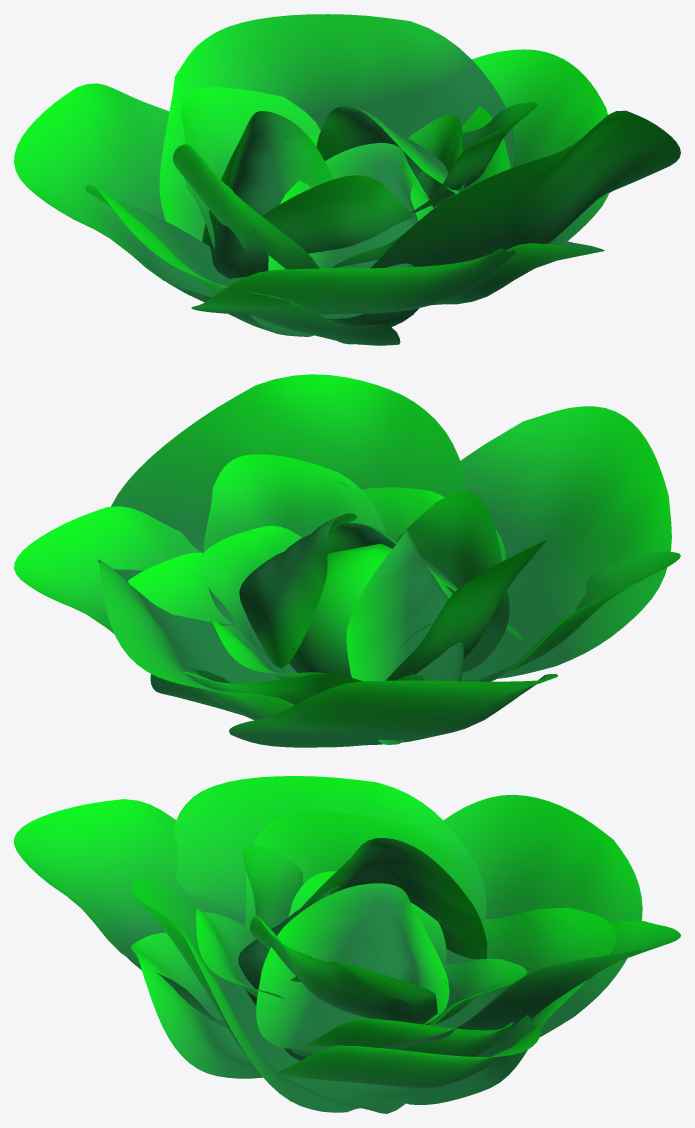
The model's file is kubis.glb.
3 renders of one model, top to bottom at view 1: azimuth 30°, elevation 25°; view 2: azimuth 150°, elevation 25°; view 3: azimuth 270°, elevation 25°, orthographic. The views are drawn at different scales.
Parts seen in each view (by area): view 1: Plane, Plane.001, Plane.015, Plane.014, Plane.003, Plane.024, Plane.012, Plane.002, Plane.004, Plane.023, Plane.006, Plane.022 (+6 smaller); view 2: Plane.014, Plane.001, Plane.015, Plane.003, Plane.013, Plane, Plane.024, Plane.022, Plane.012, Icosphere, Plane.006, Plane.011 (+6 smaller); view 3: Plane.015, Plane.014, Plane.022, Plane.002, Plane.001, Plane.004, Plane.006, Plane.024, Plane.005, Plane.003, Plane, Plane.013 (+7 smaller).
Boxes of the visible parts, box(x1,y1,x2,y2) form: Plane: box(159, 14, 514, 241); Plane.001: box(370, 110, 680, 268); Plane.015: box(14, 83, 313, 336); Plane.014: box(191, 247, 515, 315); Plane.003: box(472, 49, 609, 245); Plane.024: box(202, 111, 333, 278); Plane.012: box(244, 175, 413, 276); Plane.002: box(85, 184, 400, 345); Plane.004: box(180, 87, 320, 249); Plane.023: box(268, 143, 426, 318); Plane.006: box(173, 144, 368, 344); Plane.022: box(316, 106, 468, 193); Plane.014: box(460, 406, 671, 680); Plane.001: box(111, 374, 466, 552); Plane.015: box(229, 674, 557, 747); Plane.003: box(14, 506, 230, 683); Plane.013: box(203, 454, 385, 634); Plane: box(98, 559, 294, 720); Plane.024: box(346, 528, 463, 744); Plane.022: box(239, 513, 357, 667); Plane.012: box(395, 491, 509, 672); Icosphere: box(288, 543, 452, 677); Plane.006: box(386, 540, 546, 680); Plane.011: box(199, 526, 302, 673); Plane.015: box(443, 794, 642, 1036); Plane.014: box(14, 799, 245, 1027); Plane.022: box(256, 883, 449, 1050); Plane.002: box(173, 776, 486, 919); Plane.001: box(131, 876, 419, 1113); Plane.004: box(406, 907, 615, 1104); Plane.006: box(244, 811, 483, 964); Plane.024: box(300, 838, 487, 959); Plane.005: box(131, 932, 262, 1078); Plane.003: box(248, 1015, 541, 1088); Plane: box(381, 920, 680, 1049); Plane.013: box(250, 915, 412, 1022).
Bounding box in the file's own units: 15 × 6.49 × 16.28.
Materials: 1 (1 with a texture image).
